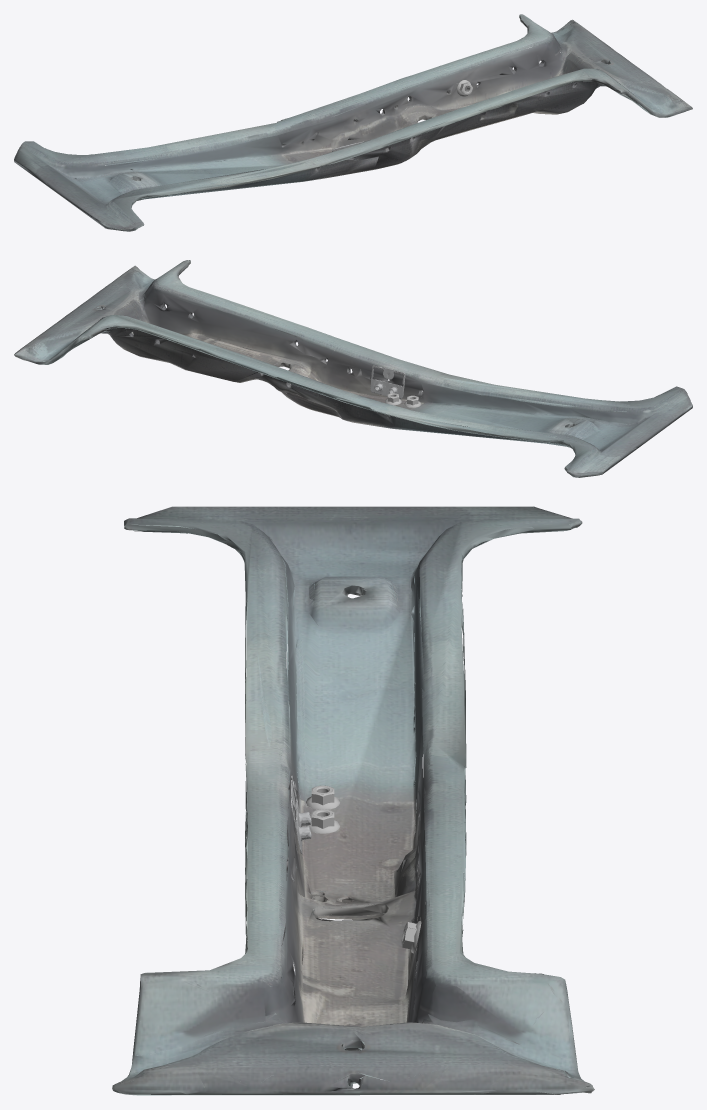
3 renders of one model, top to bottom at view 1: azimuth 30°, elevation 25°; view 2: azimuth 150°, elevation 25°; view 3: azimuth 270°, elevation 25°, orthographic. The views are drawn at different scales.
Parts seen in each view (by area): view 1: PecaPrincipal; view 2: PecaPrincipal, Chapa; view 3: PecaPrincipal.
Part boxes in pixels (x1,y1,x2,y2): PecaPrincipal: (14, 14, 692, 231); PecaPrincipal: (14, 260, 692, 477); Chapa: (370, 365, 405, 399); PecaPrincipal: (112, 506, 594, 1095).
Size of the model in its own units: 1.9 by 0.1891 by 0.691.
5 materials, 2 textured.
